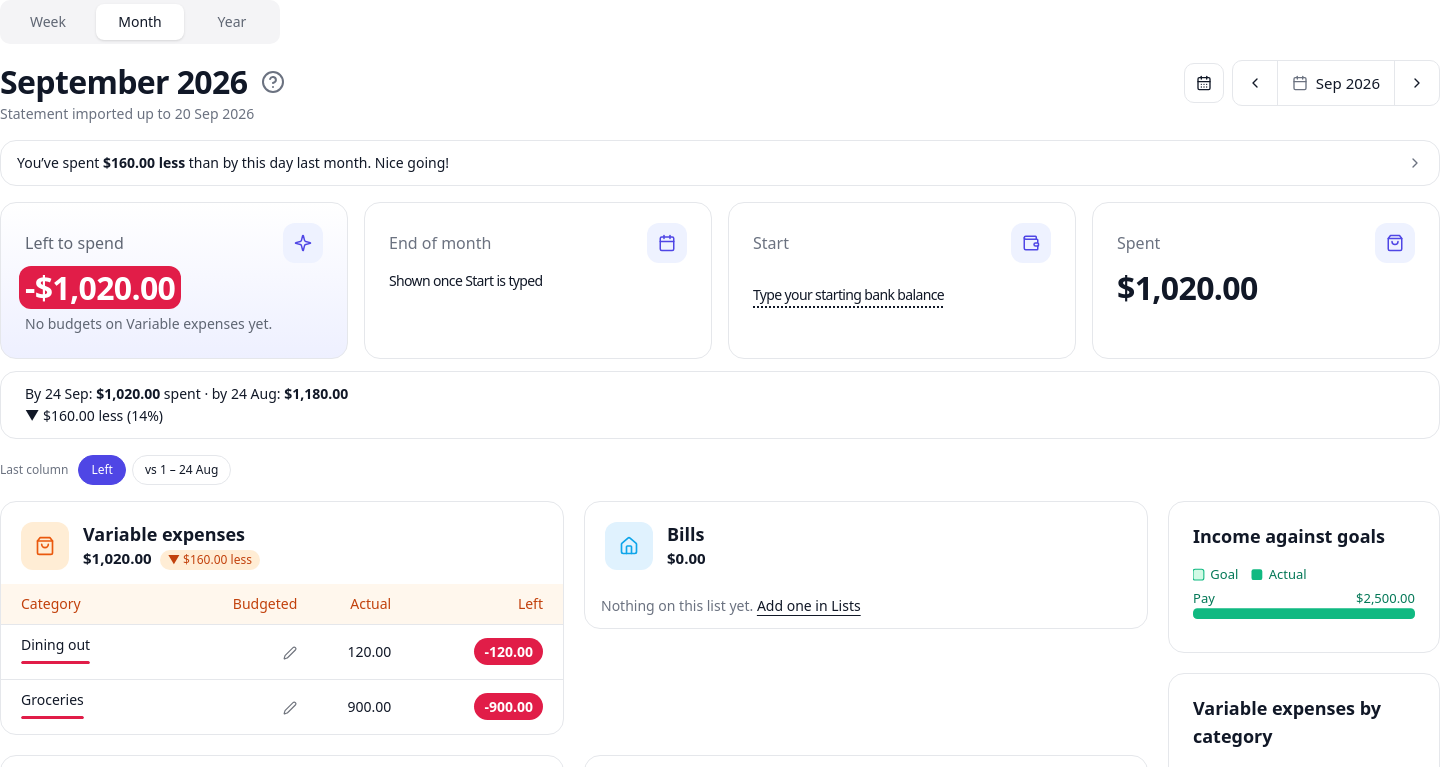
Test: the Month's third column (D26) › shows what a row came to over the same days last month in its charges
Expected: the element "Last column" is shown, [0, 455, 231, 485]
Click the button "Groceries" at (52, 704), box [21, 690, 84, 719]
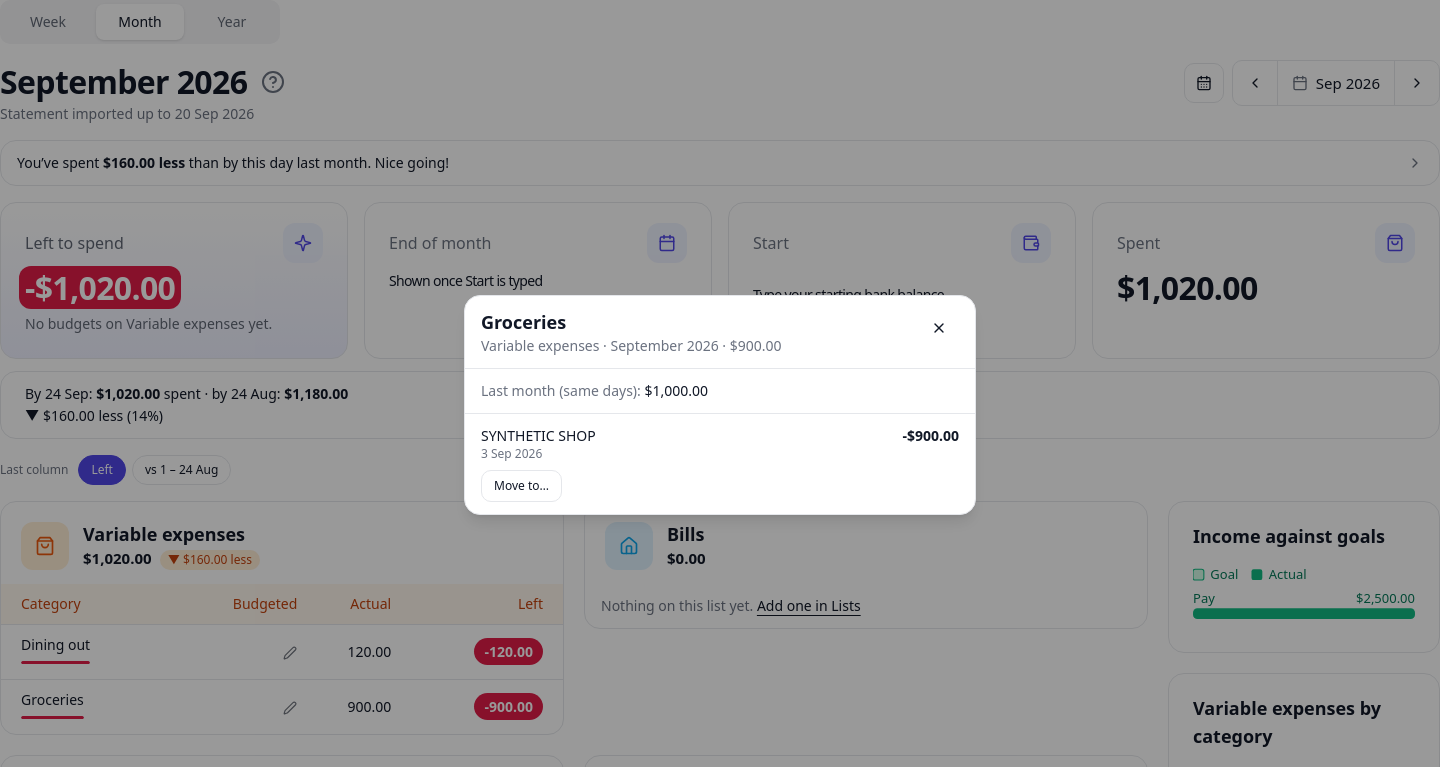
Now the element showing "Last month (same days): $1,000.00" is shown, box [465, 369, 975, 414]
